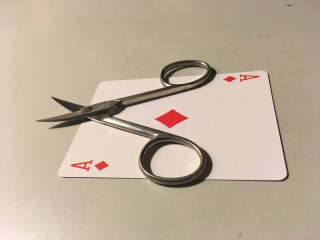AceOfDiamonds: (57, 71, 288, 181)
